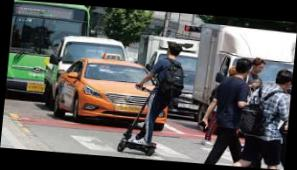nonhelmet: (115, 38, 188, 157)
